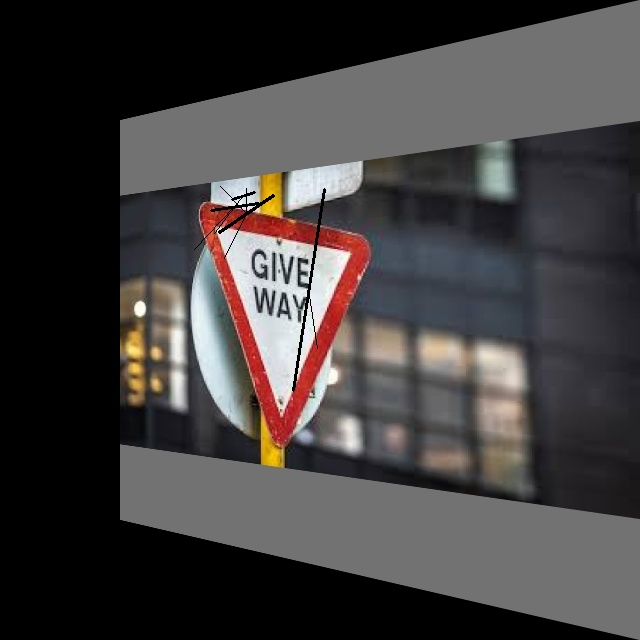Give_Way: (203, 184, 369, 459)
